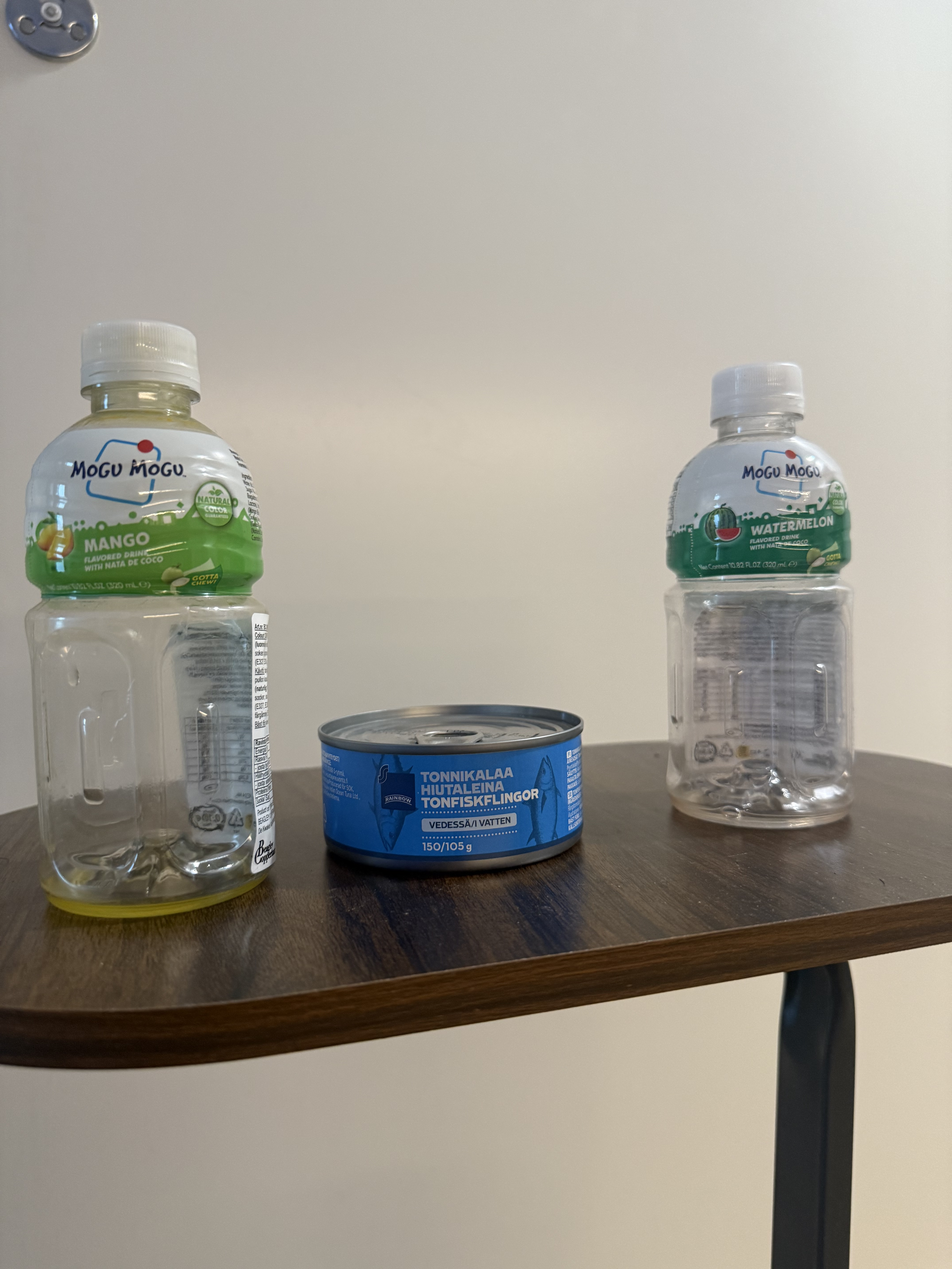Konservburk: (316, 703, 592, 869)
Pantburk: (15, 324, 274, 908), (651, 358, 859, 829)
